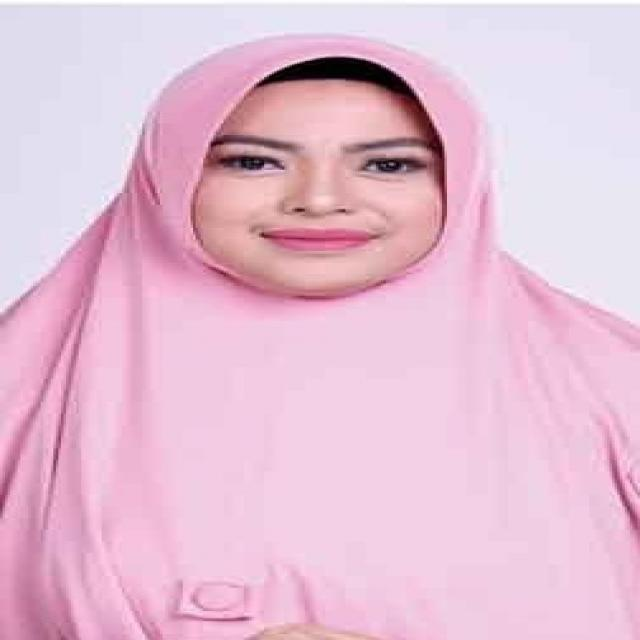head: (129, 26, 504, 301)
